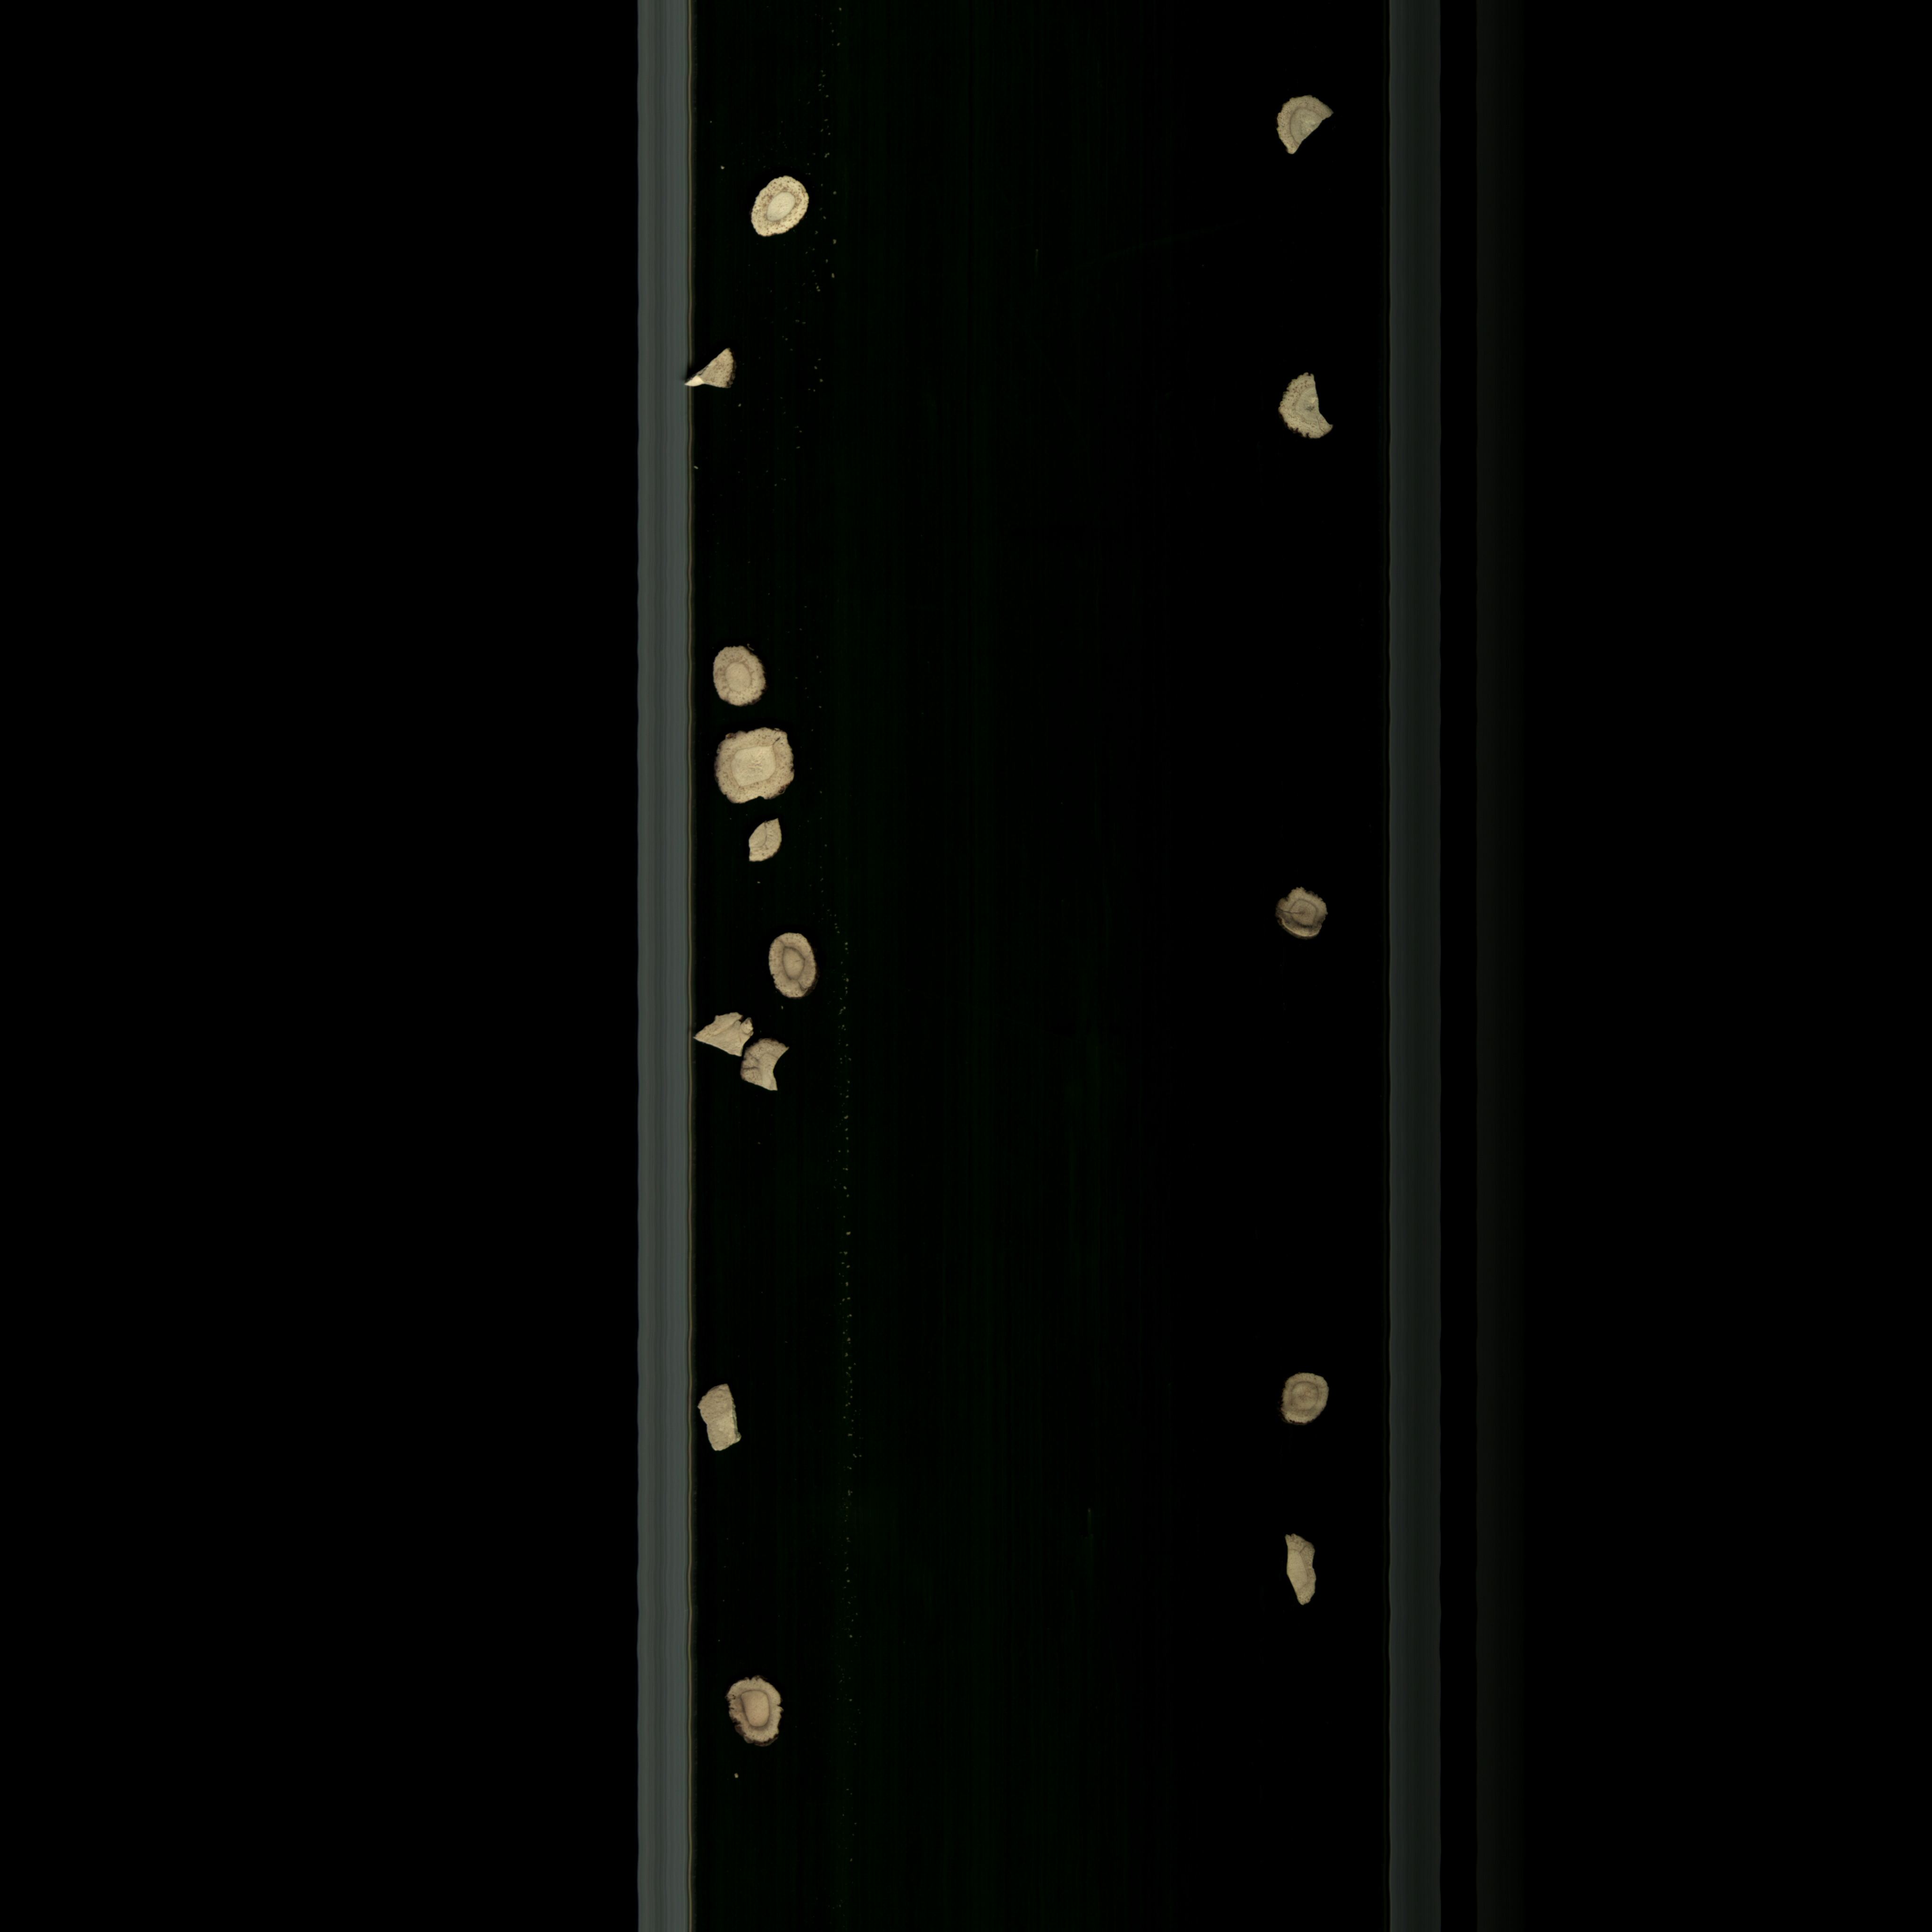debris: (1261, 88, 1345, 161), (1276, 368, 1343, 448), (740, 817, 791, 870)
distortion: (704, 720, 803, 814), (694, 1376, 757, 1465), (747, 168, 814, 248), (1272, 1525, 1330, 1612)
dreg: (740, 1042, 798, 1120), (678, 343, 752, 395), (694, 1007, 757, 1060)
moldy: (713, 1670, 794, 1764), (1265, 1362, 1341, 1438), (1269, 874, 1343, 948), (764, 932, 833, 1008)
